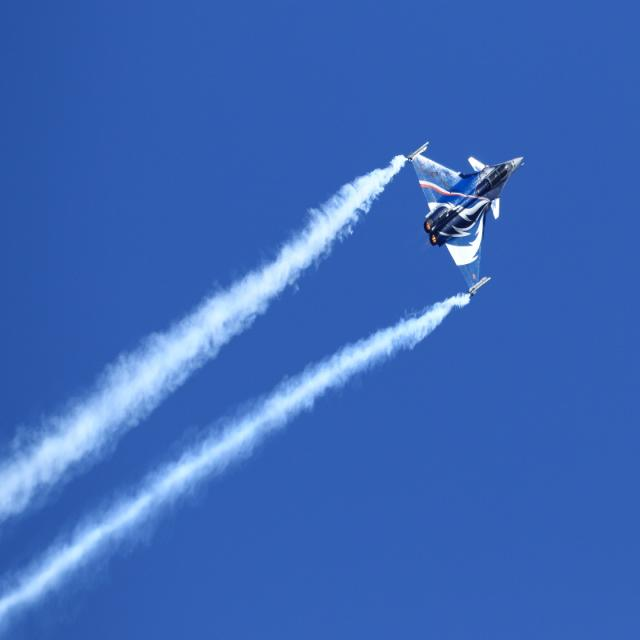MIL_Plane: (407, 141, 525, 297)
